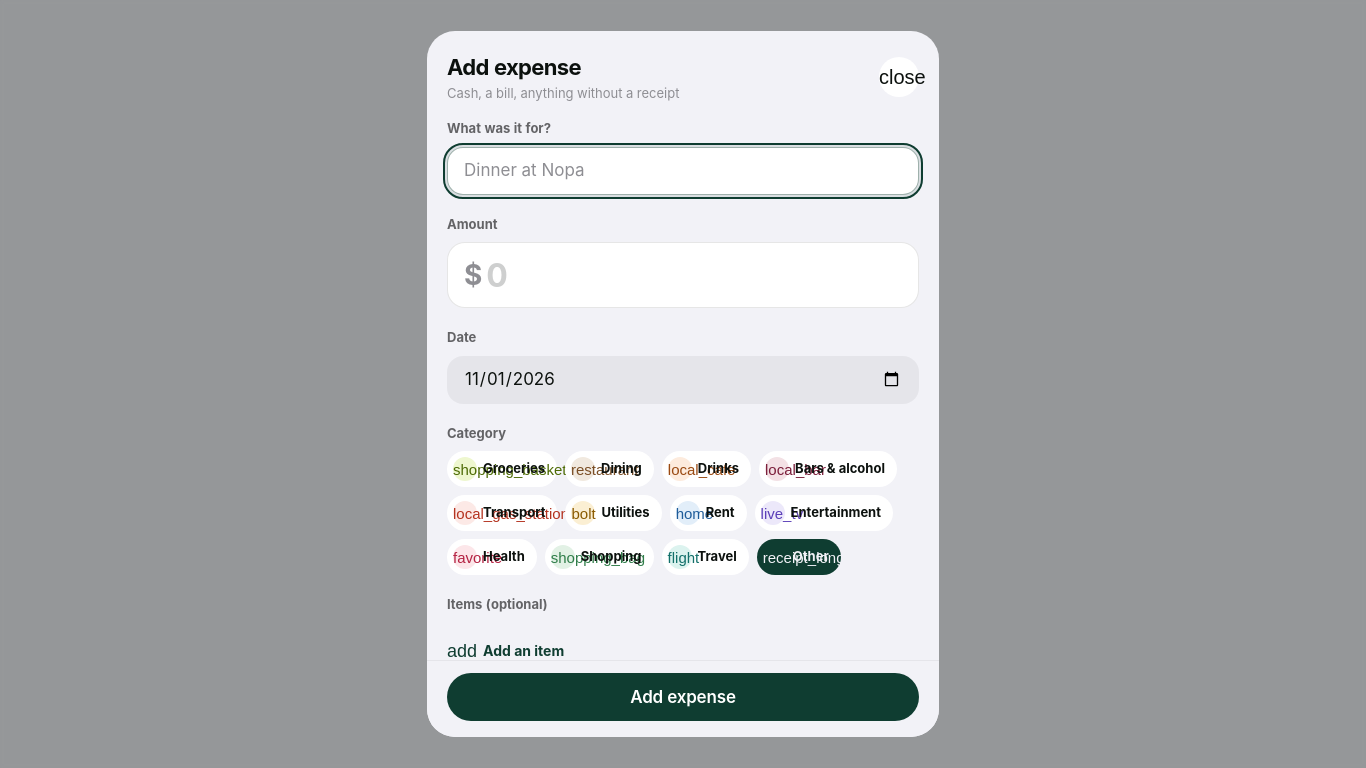
Test: AddExpenseSheet › shows what's missing instead of saving
What coordinates should you click on to do the following:
click the button "Add expense"
I would click on:
 (683, 697)
Its box is [447,673,919,721].
(page scrolled)
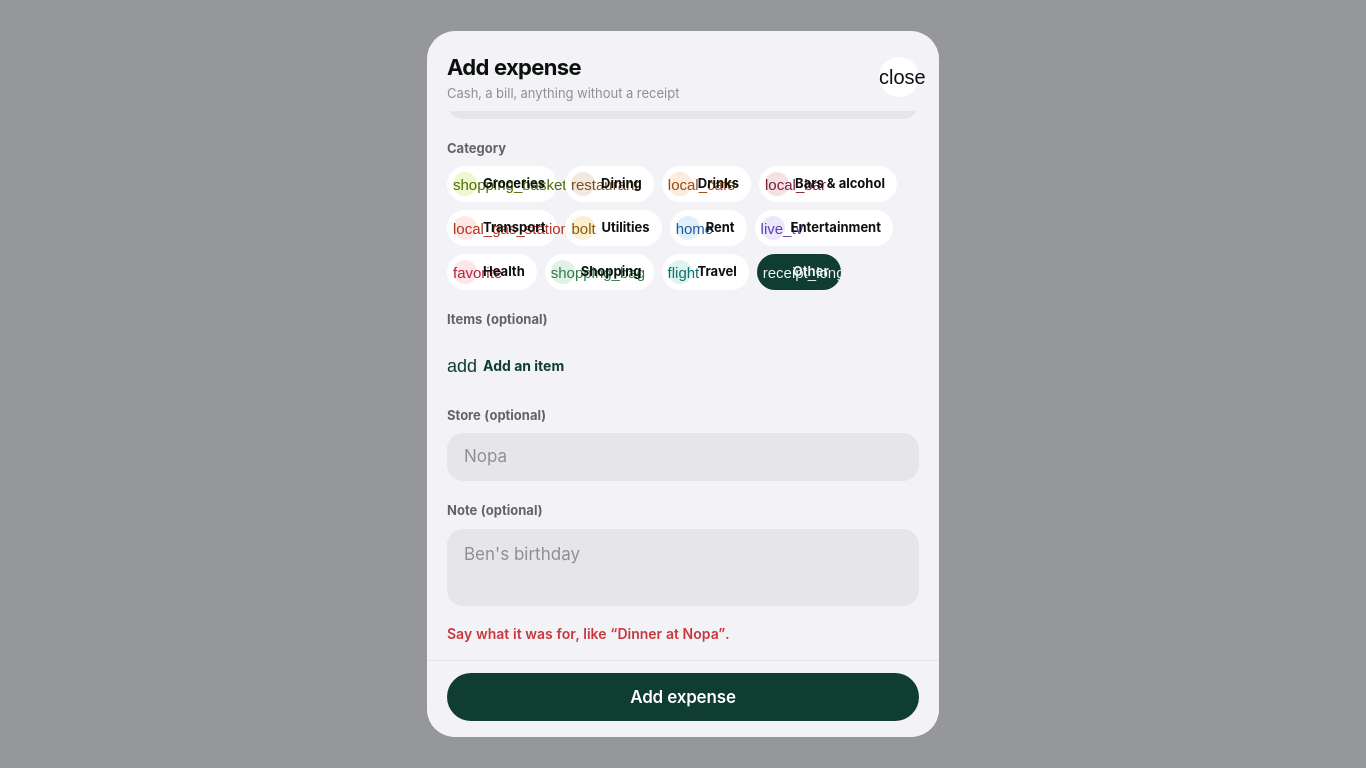
Now the message shows "what it was for", box [447,625,729,642]
